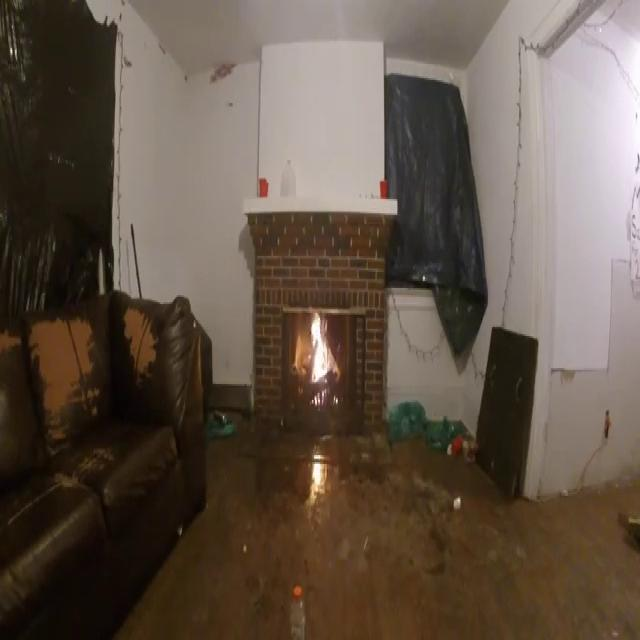fire: (293, 306, 341, 413)
